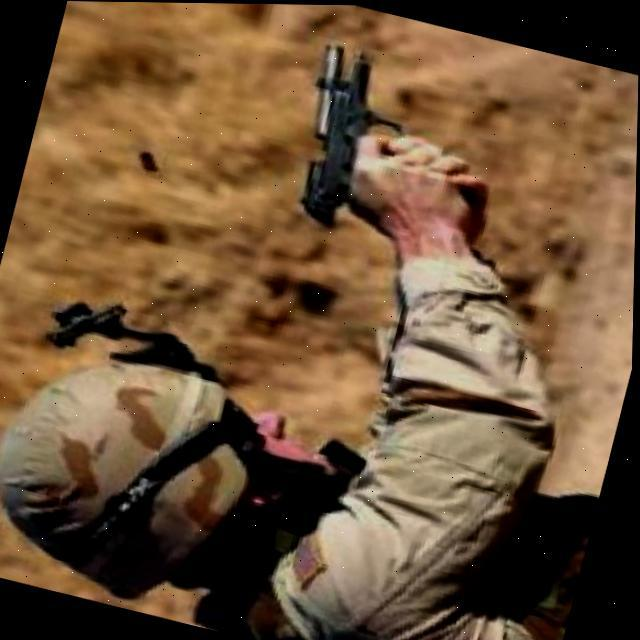gun: (272, 34, 428, 252)
